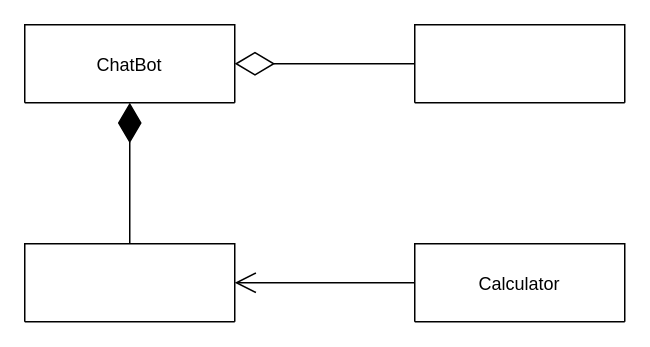
This 650x347 diagram has some shape labels left out. The shapes that lost their labels are listed below. From the top down, each one's centre as x and y in pixels, then its label:
At [519,63]: "Autorization".
At [129,282]: "Reply".
